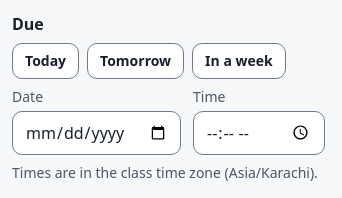
Test: DateTimeField › sets a deadline in the class time zone with a quick choice and confirms it in words
Expected: the text "Times are in the class time zone (Asia/Karachi)." is shown, [12,163,318,182]
Click the button "Tomorrow" at x=136, y=61, box [87,43,184,79]
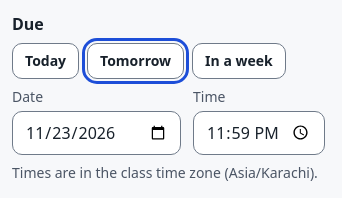
Expected: the date field labelled "Date" holds "2026-11-23", [12,111,181,155]
Expected: the time field labelled "Time" holds "23:59", [193,111,325,155]
